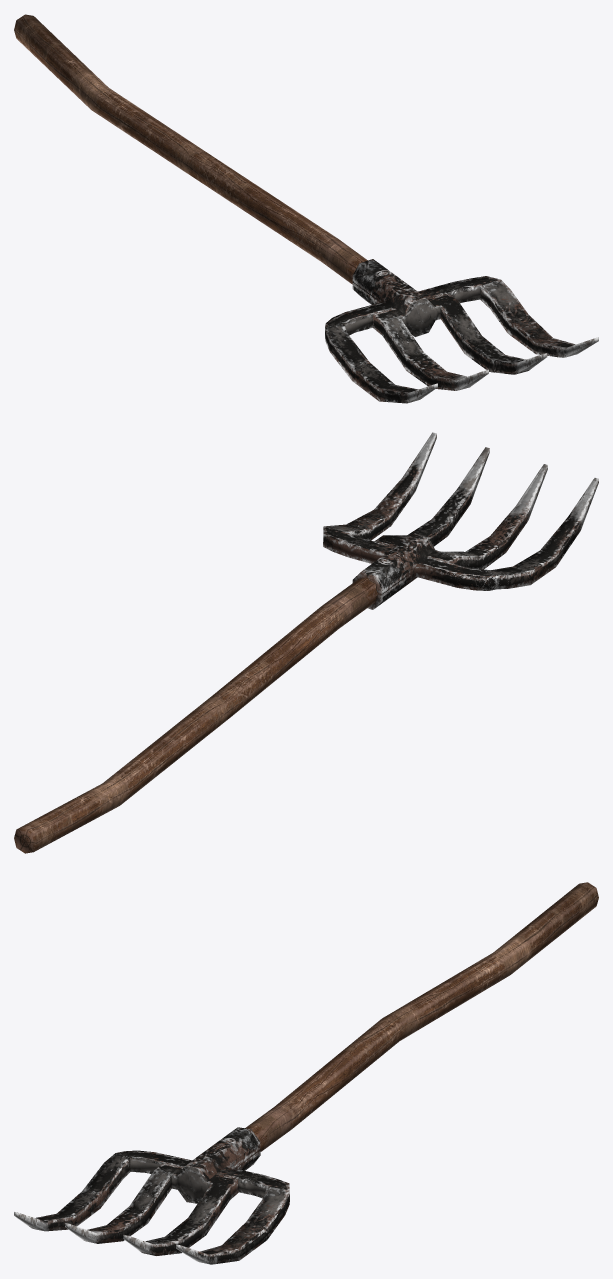
Rendered from Pitchfork.fbx.
The picture shows the model from 3 angles, top to bottom: view 1: azimuth 30°, elevation 25°; view 2: azimuth 150°, elevation 25°; view 3: azimuth 330°, elevation 25°; orthographic projection.
Visible parts, largest first — view 1: Pitchfork; view 2: Pitchfork; view 3: Pitchfork.
Part boxes in pixels (x1=…): Pitchfork: x1=14, y1=14, x2=598, y2=403; Pitchfork: x1=14, y1=432, x2=598, y2=853; Pitchfork: x1=14, y1=882, x2=598, y2=1264.
Bounding box in the file's own units: 34.43 × 10.5 × 162.
